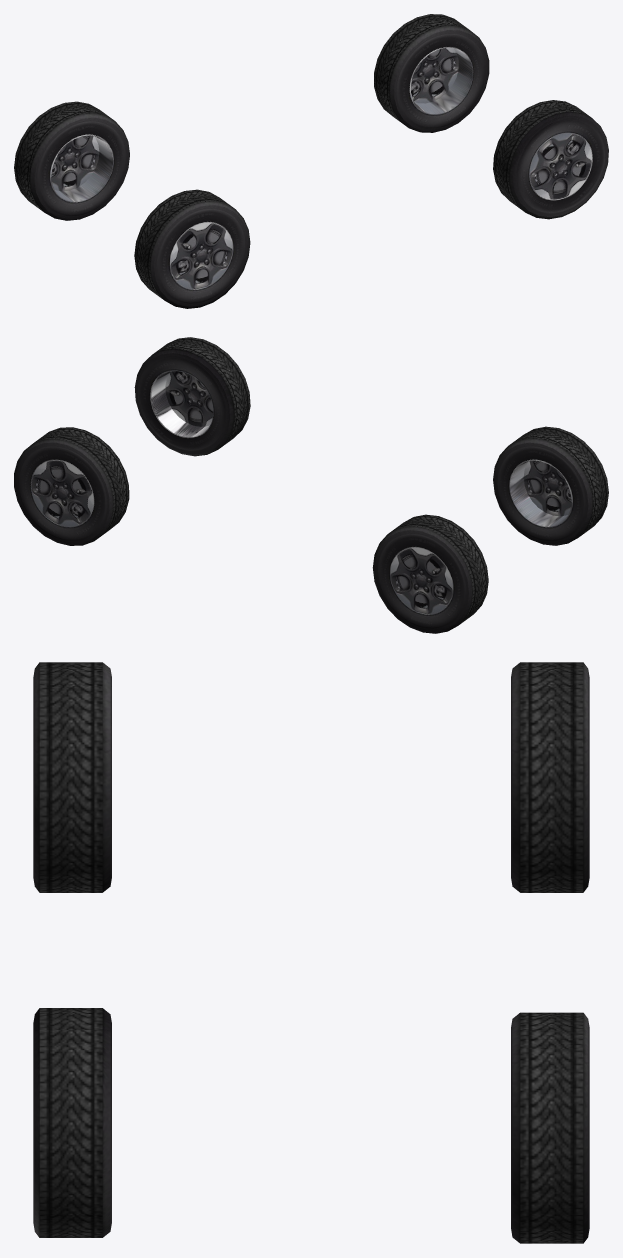
Rendered from Llantas.fbx.
3 views of the same model, one above another, from view 1: azimuth 30°, elevation 25°; view 2: azimuth 150°, elevation 25°; view 3: azimuth 270°, elevation 25° (orthographic). The views are drawn at different scales.
Parts seen in each view (by area): view 1: llantas; view 2: llantas; view 3: llantas.
Boxes of the visible parts, bbox=[...] form: llantas: bbox=[14, 14, 608, 308]; llantas: bbox=[14, 337, 608, 633]; llantas: bbox=[33, 662, 589, 1243].
Bounding box in the file's own units: 1780 × 396 × 935.
Materials: 2 (2 with a texture image).
